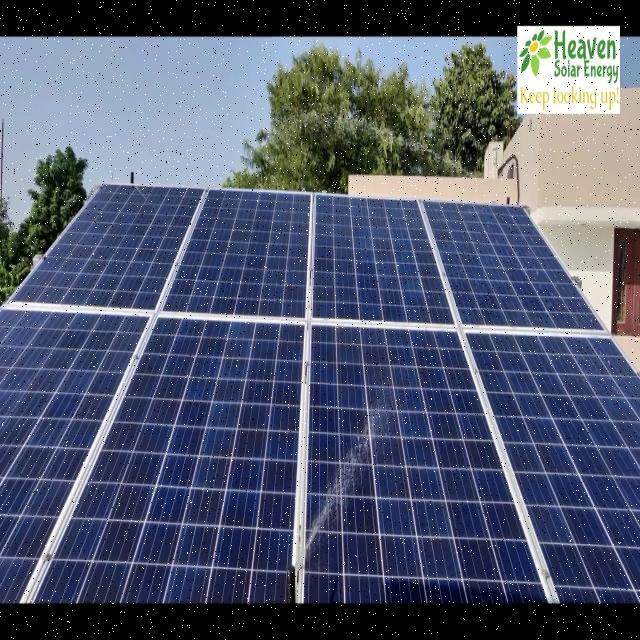clean: (1, 188, 640, 611)
